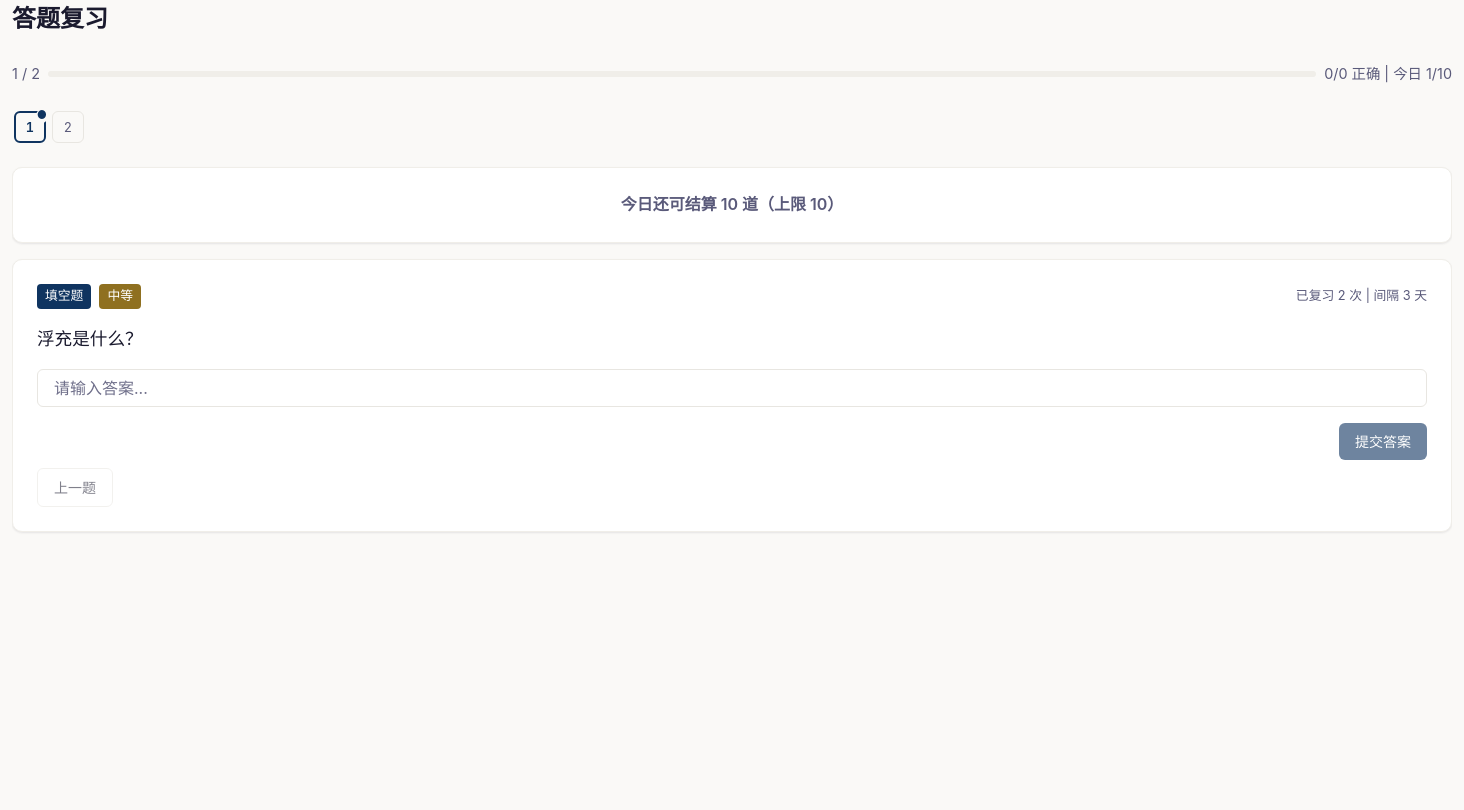
Scenario: 答题复习的回车约定（与卡片复习页一致） › ★ 焦点在"查看原文语境"上时，回车展开原文而不是被带去下一题
The width and height of the screenshot is (1464, 810).
Expected: the text "浮充是什么？" is shown, [37,328,143,348]
Type "恒压运行" into the field with placeholder "请输入答案..." at (732, 388), box [37,369,1427,407]
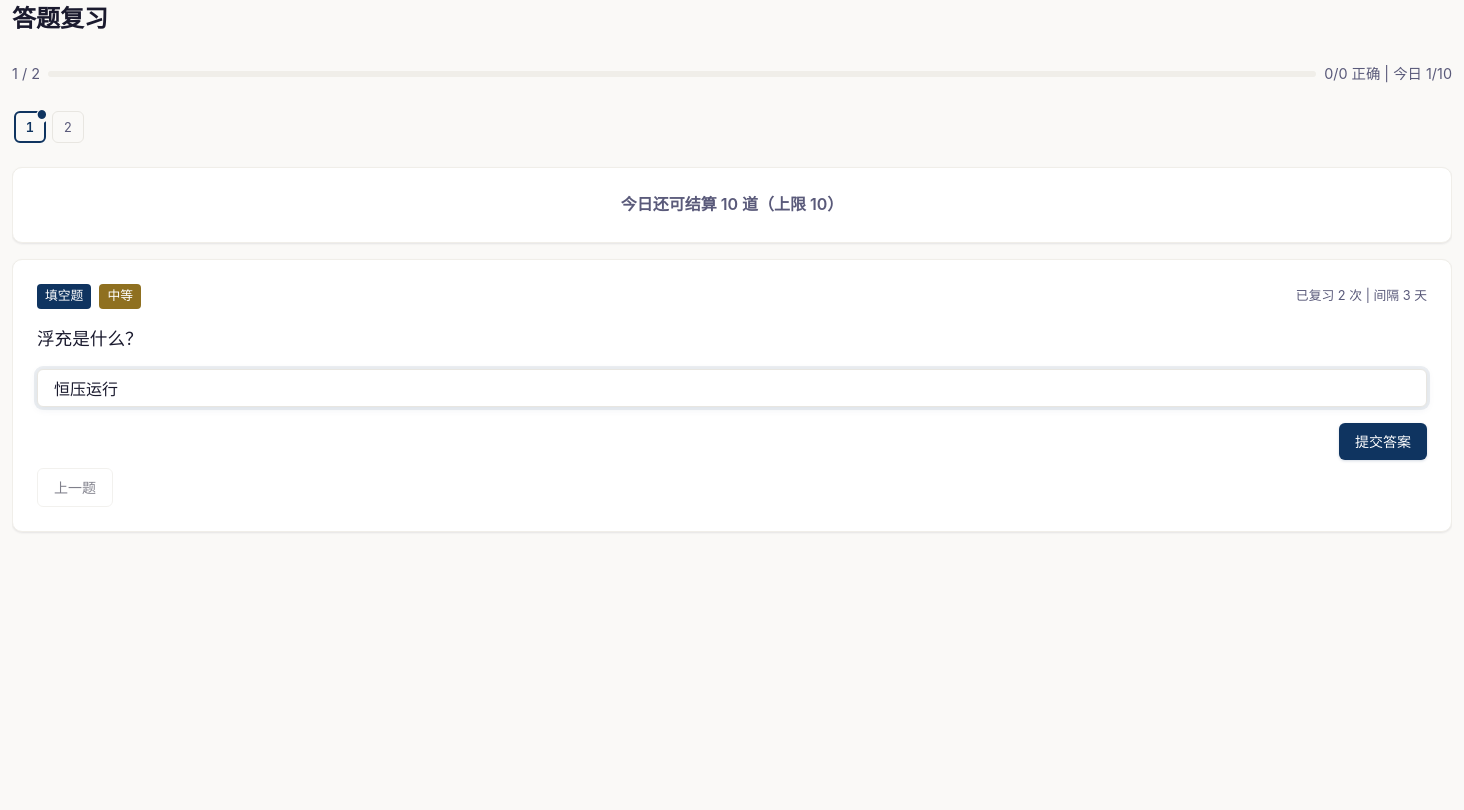
Click the button "提交答案" at (1383, 441), box [1339,423,1427,460]
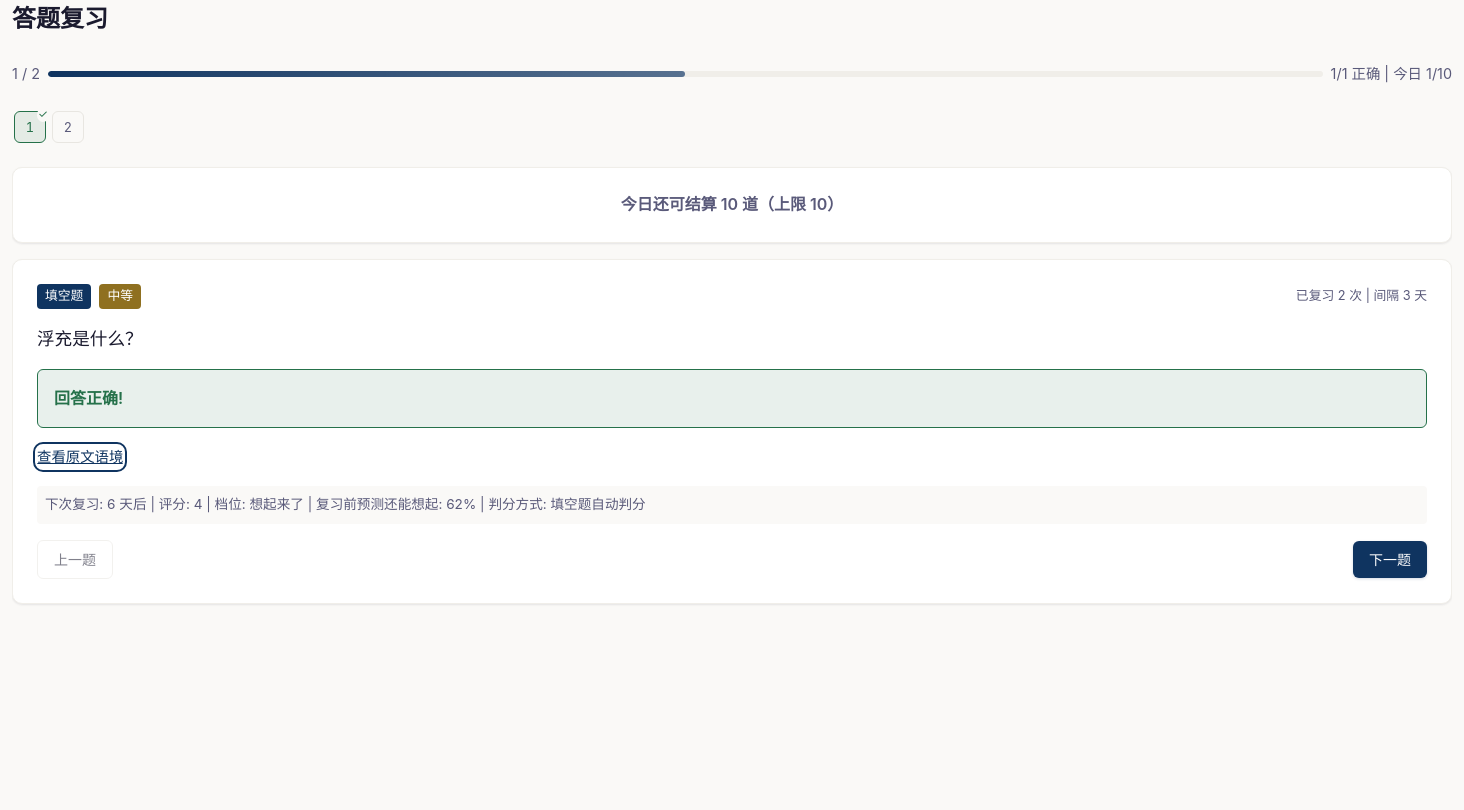
Expected: the text "回答正确!" is shown, [54,388,123,408]
Press Enter
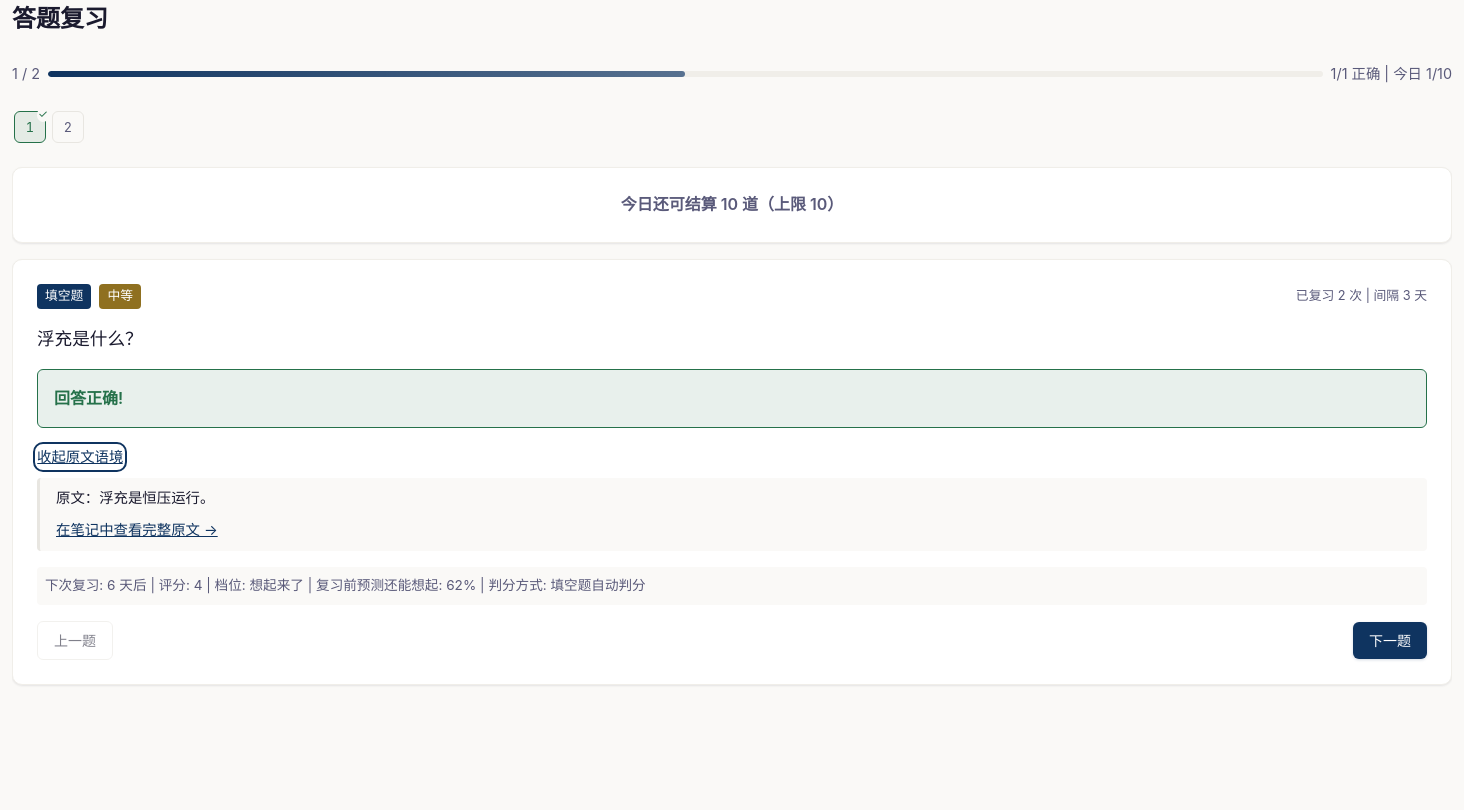
Expected: the text "1 / 2" is shown, [12,62,40,85]
Expected: the text "原文：浮充是恒压运行。" is shown, [56,489,214,506]
